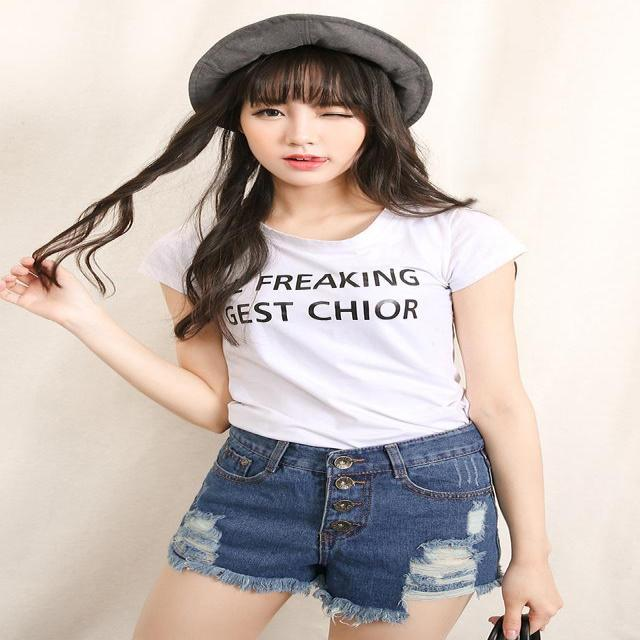short sleeve top: (142, 193, 525, 450)
shorts: (167, 421, 500, 593)
